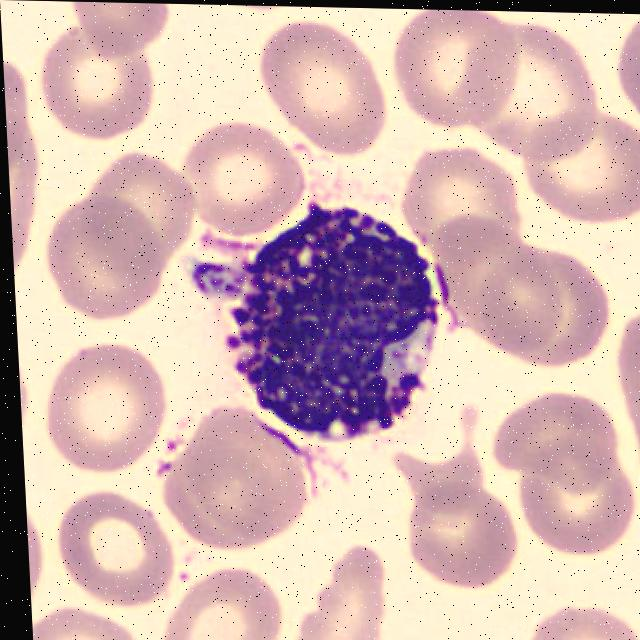basophil: (233, 208, 455, 460)
platelets: (183, 254, 245, 309)
rbc: (423, 217, 564, 366), (473, 246, 624, 385), (261, 16, 397, 159), (180, 406, 317, 545), (44, 334, 181, 473), (458, 30, 600, 164), (41, 190, 174, 332), (392, 14, 527, 149), (392, 471, 519, 608), (41, 27, 173, 158), (50, 479, 180, 609), (475, 384, 624, 495), (175, 117, 308, 234), (400, 147, 527, 265), (88, 146, 200, 270), (508, 460, 640, 564), (523, 112, 640, 223), (3, 47, 55, 285), (281, 533, 395, 640), (159, 457, 278, 559), (151, 563, 290, 640), (63, 2, 178, 67), (607, 310, 640, 513), (516, 594, 640, 640), (31, 602, 139, 640), (609, 17, 640, 132), (19, 357, 41, 447), (27, 515, 47, 601)
